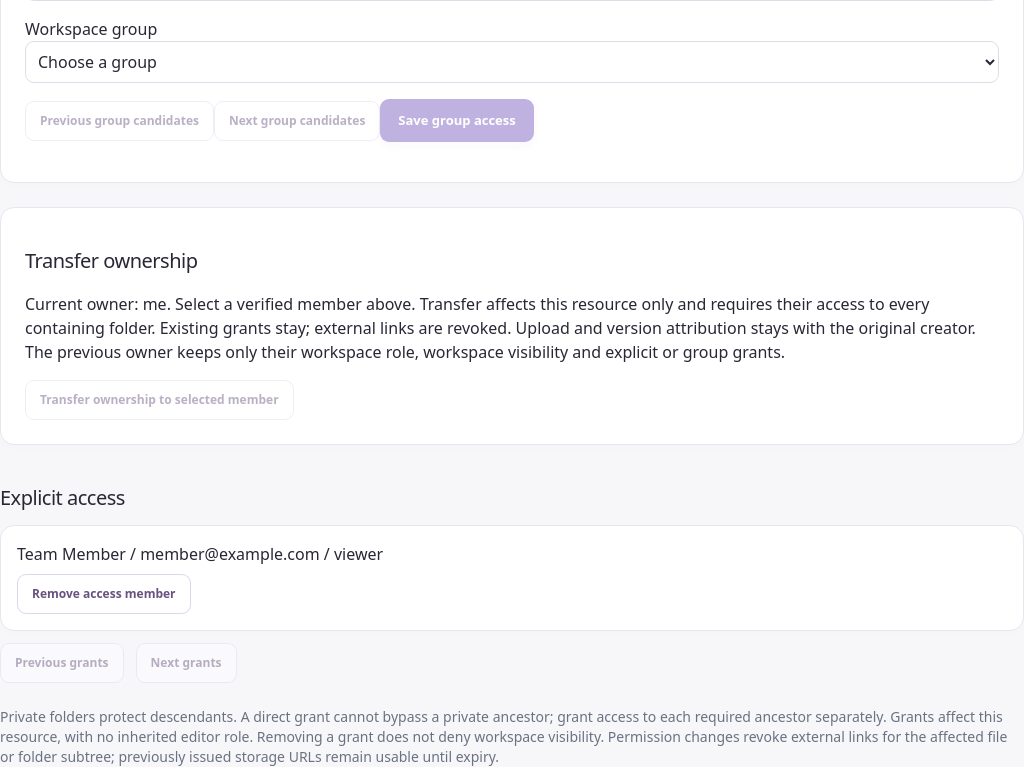
Scenario: removes grants while explaining workspace access still applies
The width and height of the screenshot is (1024, 767).
(page scrolled)
Click the button "Remove access member": [104, 594] box [17, 574, 190, 614]
(page scrolled)
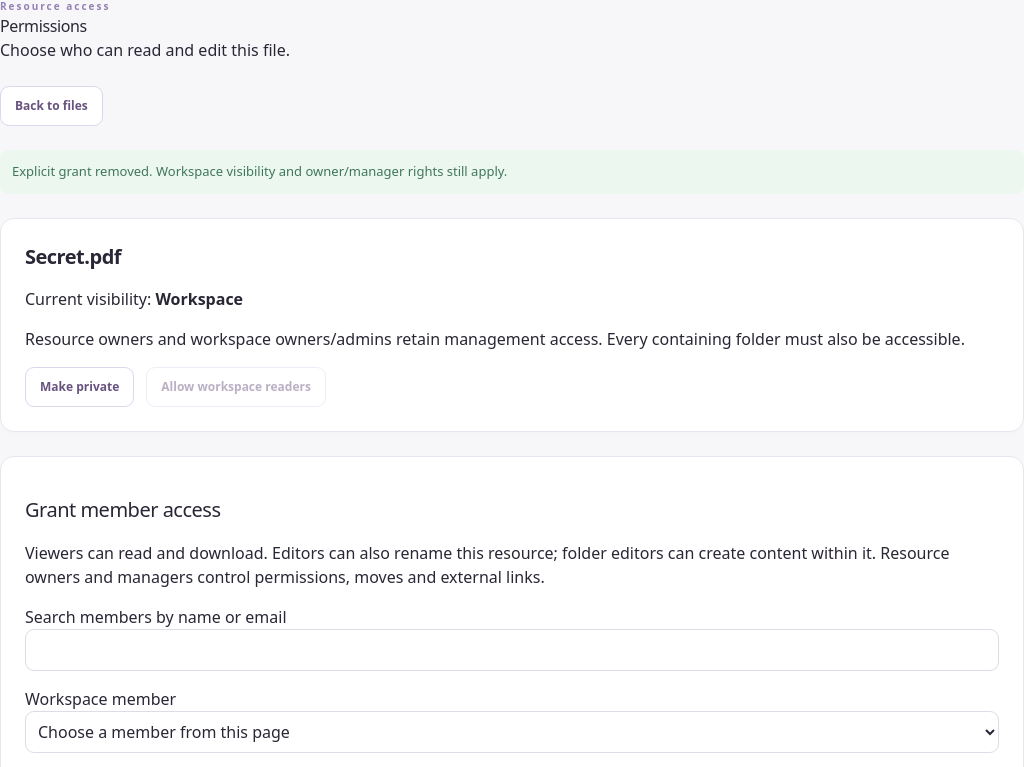
Check: the message shows "Workspace visibility", box [12, 162, 507, 180]
